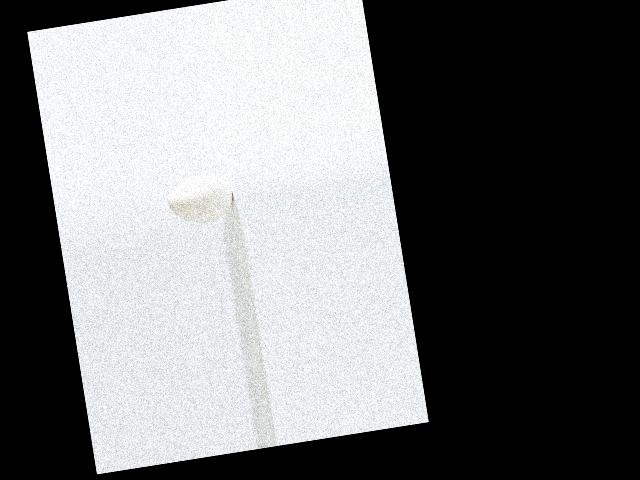egg: (164, 169, 235, 227)
